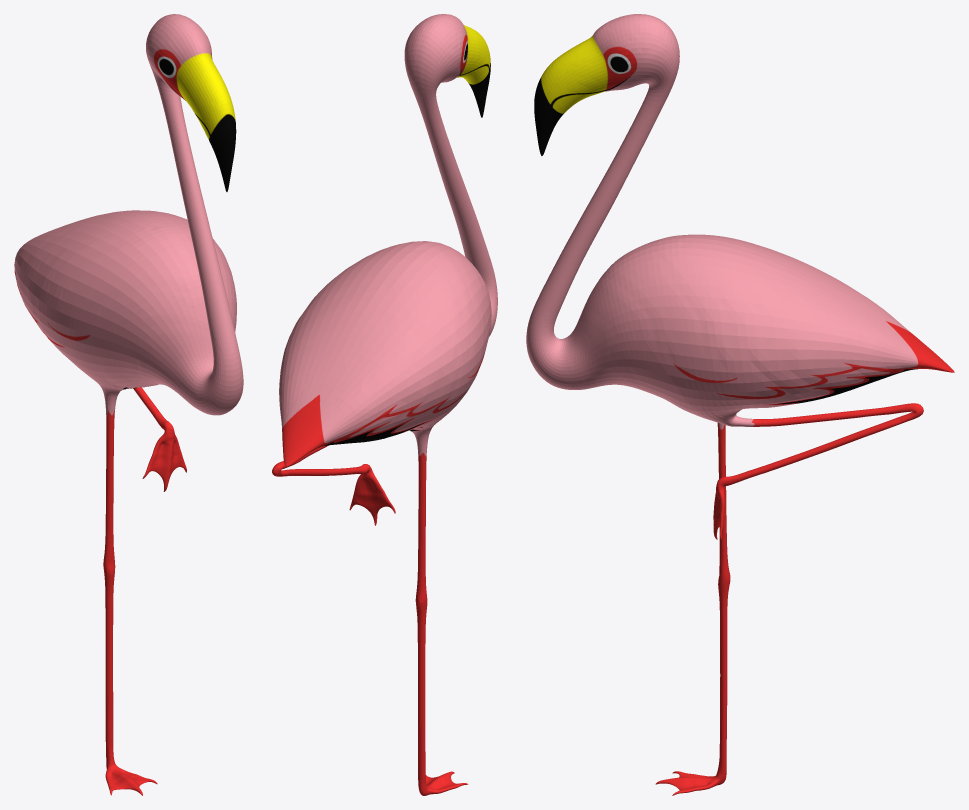
The model's file is Flamingo.gltf.
3 renders of one model, left to right at view 1: azimuth 30°, elevation 25°; view 2: azimuth 150°, elevation 25°; view 3: azimuth 270°, elevation 25°, orthographic. The views are drawn at different scales.
Size of the model in its own units: 0.58 by 2.56 by 1.27.
1 material, 1 textured.
